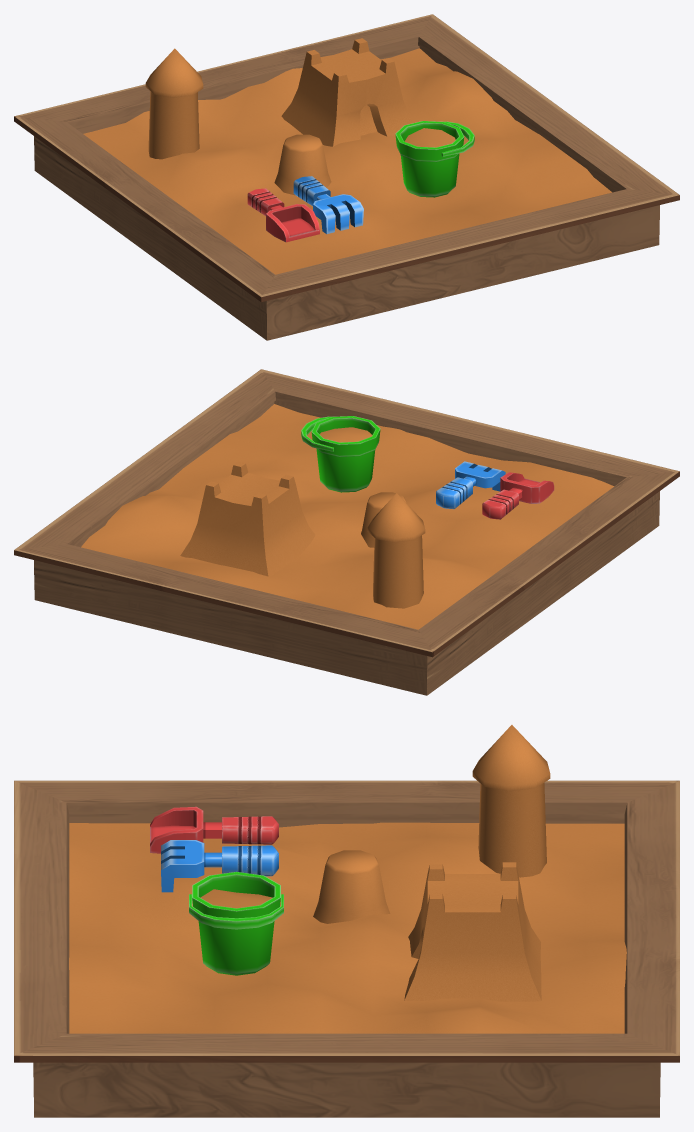
File: bg_sandplace.FBX
3 views of the same model, one above another, from view 1: azimuth 30°, elevation 25°; view 2: azimuth 150°, elevation 25°; view 3: azimuth 270°, elevation 25° (orthographic). The views are drawn at different scales.
Visible parts, largest first — view 1: sand_wood, sand, sand_castle3, sand_castle1, bg_sandtoy3, bg_sandtoy1, sand_castle2, bg_sandtoy2, bg_sandtoy3_sand; view 2: sand_wood, sand, sand_castle3, sand_castle1, bg_sandtoy3, bg_sandtoy1, bg_sandtoy2, sand_castle2, bg_sandtoy3_sand; view 3: sand_wood, sand, sand_castle3, sand_castle1, bg_sandtoy3, sand_castle2, bg_sandtoy2, bg_sandtoy1, bg_sandtoy3_sand.
Part boxes in pixels (x1,y1,x2,y2): sand_wood: [14, 14, 679, 340]; sand: [83, 48, 611, 274]; sand_castle3: [281, 38, 413, 146]; sand_castle1: [145, 48, 203, 159]; bg_sandtoy3: [395, 121, 474, 197]; bg_sandtoy1: [247, 188, 319, 242]; sand_castle2: [274, 134, 331, 195]; bg_sandtoy2: [293, 176, 363, 234]; bg_sandtoy3_sand: [404, 128, 455, 147]; sand_wood: [14, 369, 679, 695]; sand: [81, 404, 613, 629]; sand_castle3: [180, 461, 315, 576]; sand_castle1: [367, 493, 425, 608]; bg_sandtoy3: [301, 416, 380, 492]; bg_sandtoy1: [482, 472, 554, 519]; bg_sandtoy2: [436, 461, 505, 509]; sand_castle2: [361, 492, 406, 547]; bg_sandtoy3_sand: [320, 427, 372, 442]; sand_wood: [14, 780, 679, 1117]; sand: [69, 822, 626, 1033]; sand_castle3: [404, 862, 541, 1001]; sand_castle1: [472, 725, 550, 877]; bg_sandtoy3: [189, 871, 283, 975]; sand_castle2: [313, 850, 390, 923]; bg_sandtoy2: [161, 840, 278, 892]; bg_sandtoy1: [150, 806, 278, 853]; bg_sandtoy3_sand: [200, 889, 272, 908].
Size of the model in its own units: 36.98 by 11.98 by 37.82.
